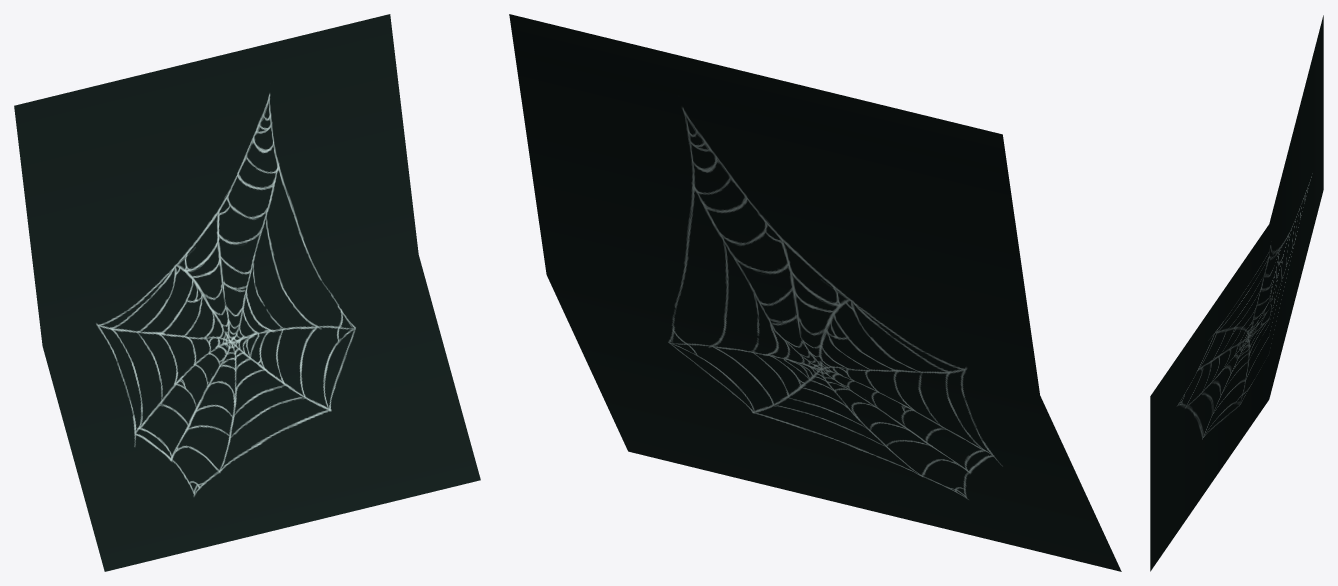
The model's file is Spiderweb.FBX.
The picture shows the model from 3 angles, left to right: view 1: azimuth 30°, elevation 25°; view 2: azimuth 150°, elevation 25°; view 3: azimuth 270°, elevation 25°; orthographic projection. The views are drawn at different scales.
Parts seen in each view (by area): view 1: Plane001; view 2: Plane001; view 3: Plane001.
Part boxes in pixels (x1,y1,x2,y2): Plane001: [14, 14, 480, 571]; Plane001: [509, 14, 1121, 571]; Plane001: [1150, 15, 1323, 571].
Bounding box in the file's own units: 20.84 × 21.17 × 8.7.
